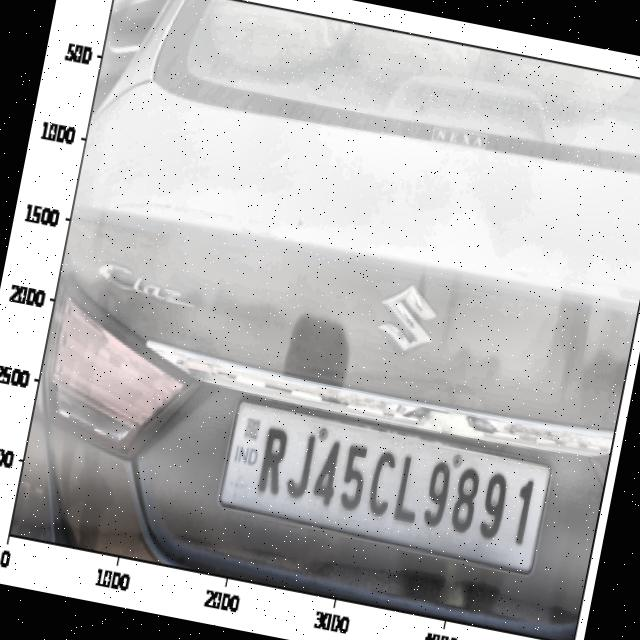license_plate: (219, 402, 548, 568)
